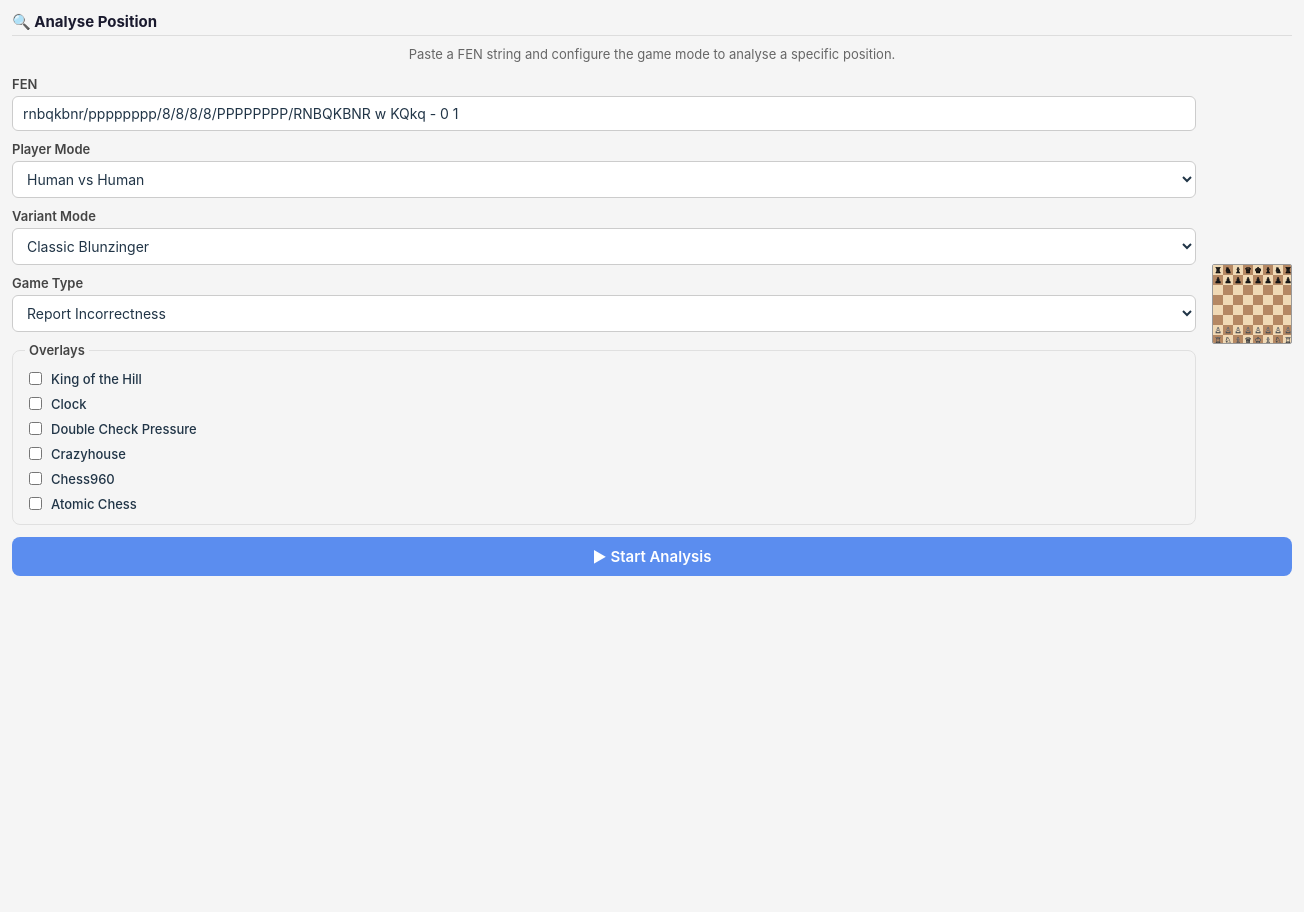
Scenario: AnalysePositionForm › shows clock settings when Clock is enabled
This screenshot has width=1304, height=912.
Check: the field labelled "Initial time (MM:SS)" is not shown
# Enable clock
Click the checkbox labelled "Clock" at coordinates (36, 404), box [29,397,42,410]
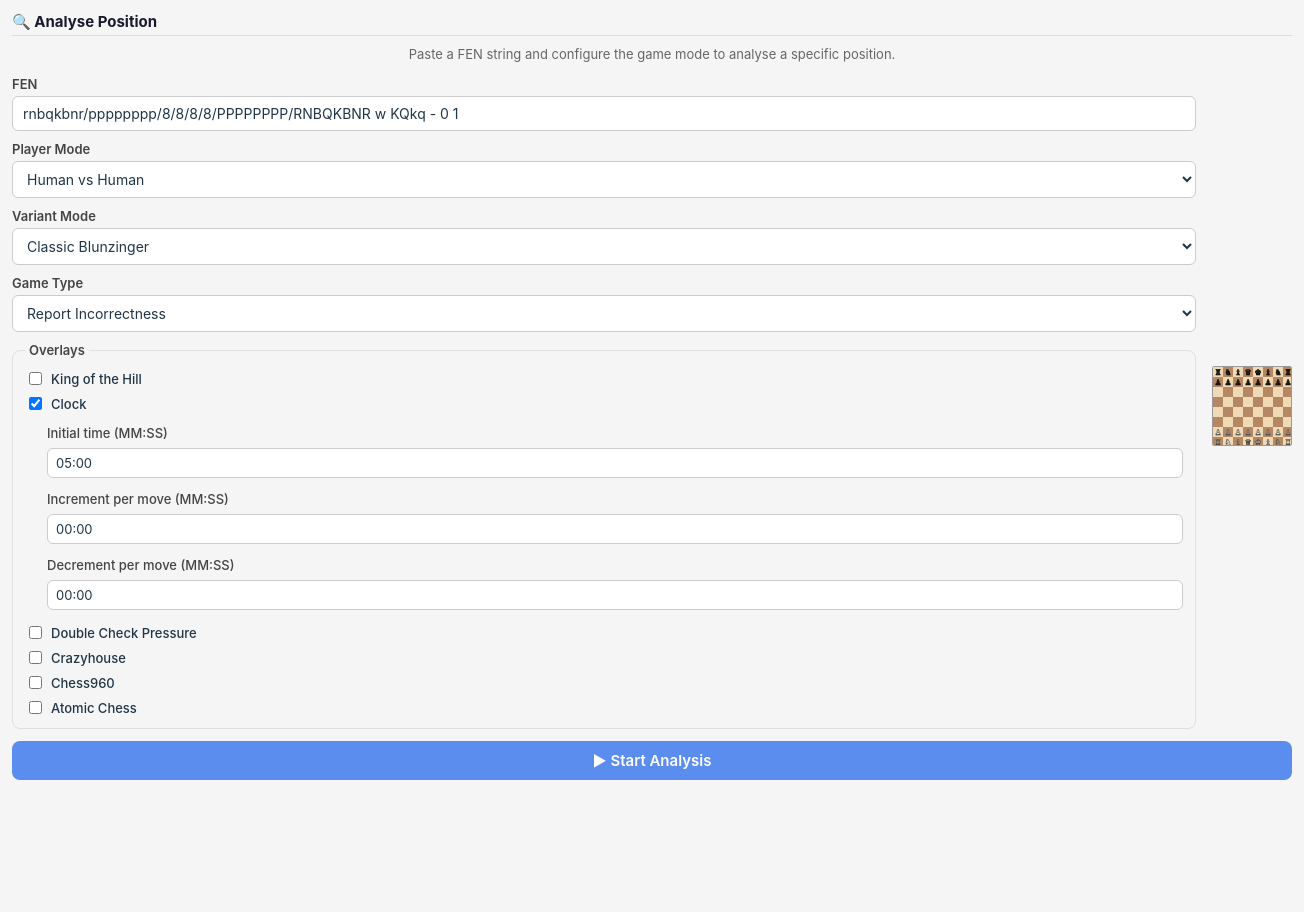
Check: the field labelled "Initial time (MM:SS)" is shown, box [47,448,1183,478]
Check: the field labelled "Increment per move (MM:SS)" is shown, box [47,514,1183,544]
Check: the field labelled "Decrement per move (MM:SS)" is shown, box [47,580,1183,610]
